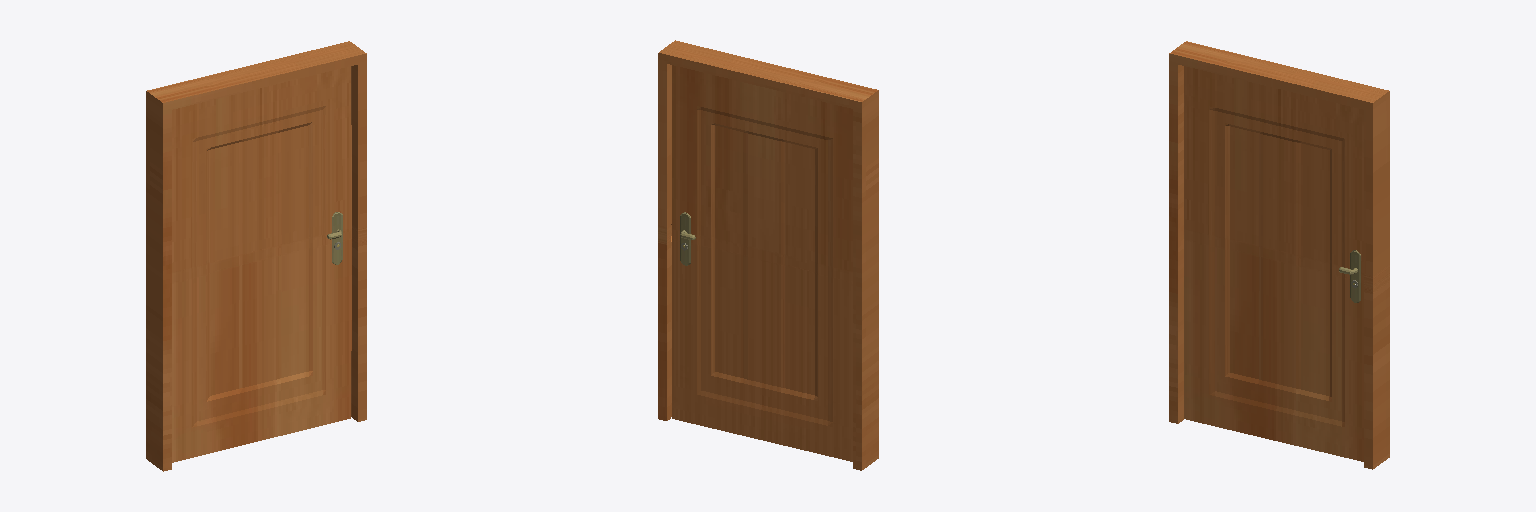
The picture shows the model from 3 angles: view 1: azimuth 30°, elevation 25°; view 2: azimuth 150°, elevation 25°; view 3: azimuth 330°, elevation 25°; orthographic projection.
Visible parts, largest first — view 1: DoorBoddy_Cube.001, OutBoddy_Cube.002; view 2: DoorBoddy_Cube.001, OutBoddy_Cube.002; view 3: DoorBoddy_Cube.001, OutBoddy_Cube.002.
Boxes of the visible parts, x1,y1,x2,y2 form: DoorBoddy_Cube.001: [172, 66, 351, 462]; OutBoddy_Cube.002: [146, 41, 366, 471]; DoorBoddy_Cube.001: [672, 65, 852, 461]; OutBoddy_Cube.002: [658, 40, 878, 470]; DoorBoddy_Cube.001: [1184, 66, 1363, 461]; OutBoddy_Cube.002: [1169, 41, 1389, 469].
Size of the model in its own units: 7.18 by 12.42 by 1.09.
7 materials, 3 textured.